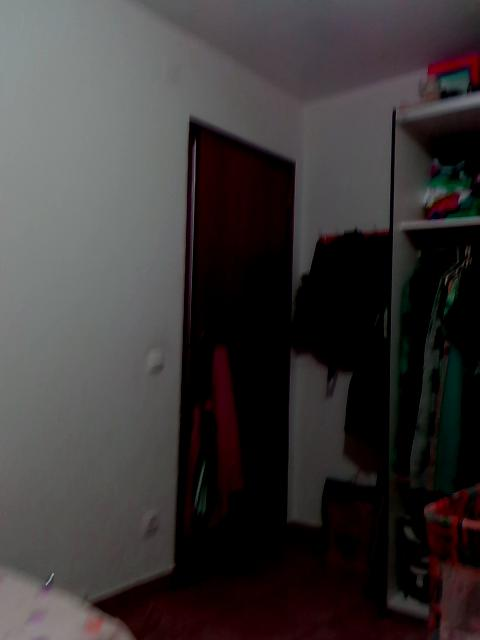closed_door: (174, 112, 291, 586)
